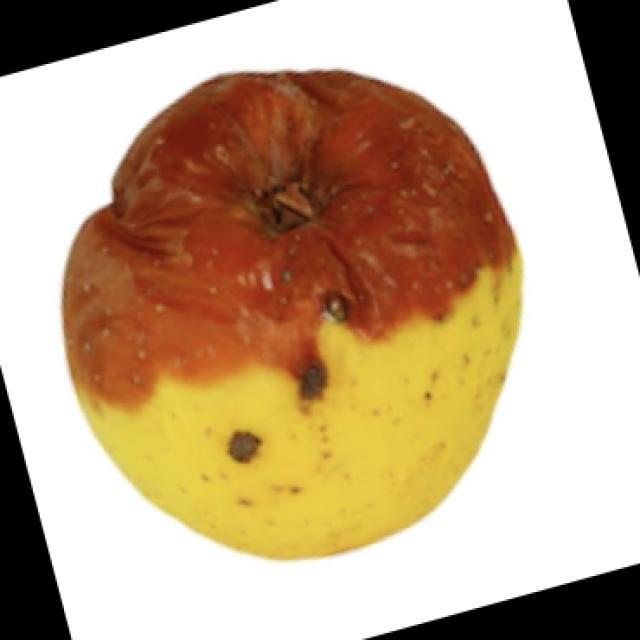Rotten: (54, 60, 534, 567)
